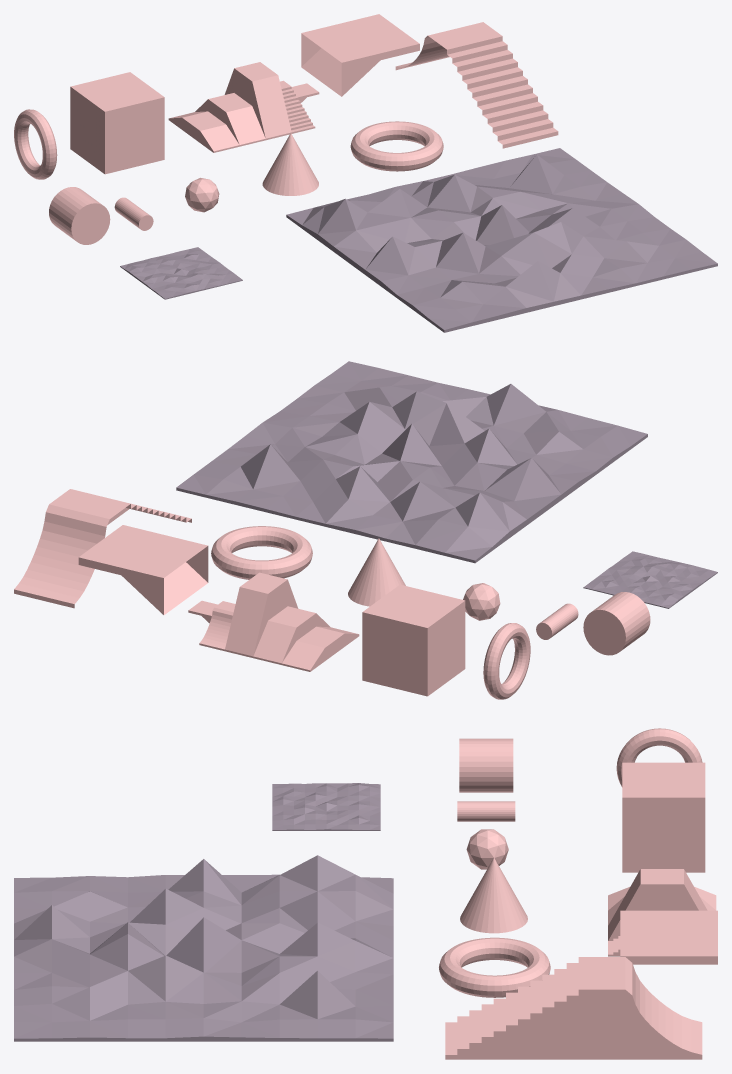
The model's file is testing-grounds2.glb.
3 renders of one model, top to bottom at view 1: azimuth 30°, elevation 25°; view 2: azimuth 150°, elevation 25°; view 3: azimuth 270°, elevation 25°, orthographic. The views are drawn at different scales.
Visible parts, largest first — view 1: roughPlan.001, stairs.002, Cube, stairs.003, roughPlan, Torus, slopes.003, Cylinder, Cone, Torus.001, slopes.002, slopes.001 (+3 smaller); view 2: roughPlan.001, Cube, stairs.002, stairs.003, roughPlan, Torus, slopes.003, Cylinder, Torus.001, slopes.002, Cone, slopes.001 (+3 smaller); view 3: roughPlan.001, stairs.002, Cube, stairs.003, roughPlan, Torus, slopes.003, Cylinder, Cone, Torus.001, Icosphere, Cylinder.001.
Boxes of the visible parts, <box> form: roughPlan.001: <box>286,148,717,332</box>; stairs.002: <box>395,22,558,148</box>; Cube: <box>70,72,164,174</box>; stairs.003: <box>301,14,419,96</box>; roughPlan: <box>120,247,242,299</box>; Torus: <box>350,121,443,171</box>; slopes.003: <box>224,62,291,140</box>; Cylinder: <box>49,187,110,244</box>; Cone: <box>262,133,318,195</box>; Torus.001: <box>14,109,57,179</box>; slopes.002: <box>195,93,265,146</box>; slopes.001: <box>168,111,239,152</box>; roughPlan.001: <box>176,361,647,563</box>; Cube: <box>362,584,465,696</box>; stairs.002: <box>14,489,191,608</box>; stairs.003: <box>78,525,208,614</box>; roughPlan: <box>583,551,717,608</box>; Torus: <box>211,526,312,579</box>; slopes.003: <box>225,572,298,657</box>; Cylinder: <box>583,592,650,655</box>; Torus.001: <box>483,623,530,699</box>; slopes.002: <box>253,606,330,664</box>; Cone: <box>348,538,405,606</box>; slopes.001: <box>281,626,359,671</box>; roughPlan.001: <box>14,855,393,1041</box>; stairs.002: <box>445,957,702,1059</box>; Cube: <box>622,762,705,872</box>; stairs.003: <box>620,910,717,964</box>; roughPlan: <box>272,783,380,830</box>; Torus: <box>439,937,550,997</box>; slopes.003: <box>608,869,707,940</box>; Cylinder: <box>459,738,513,792</box>; Cone: <box>460,857,527,933</box>; Torus.001: <box>616,728,702,787</box>; Icosphere: <box>466,829,508,869</box>; Cylinder.001: <box>457,801,515,821</box>.
Bounding box in the file's own units: 61.66 × 8.55 × 65.04.
